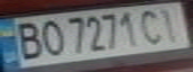1: (115, 8, 142, 47)
2: (84, 11, 106, 52)
7: (63, 13, 87, 55), (100, 10, 124, 51)
B: (6, 19, 48, 61)
C: (136, 7, 169, 45)
I: (154, 4, 187, 43)
O: (33, 17, 66, 57)
